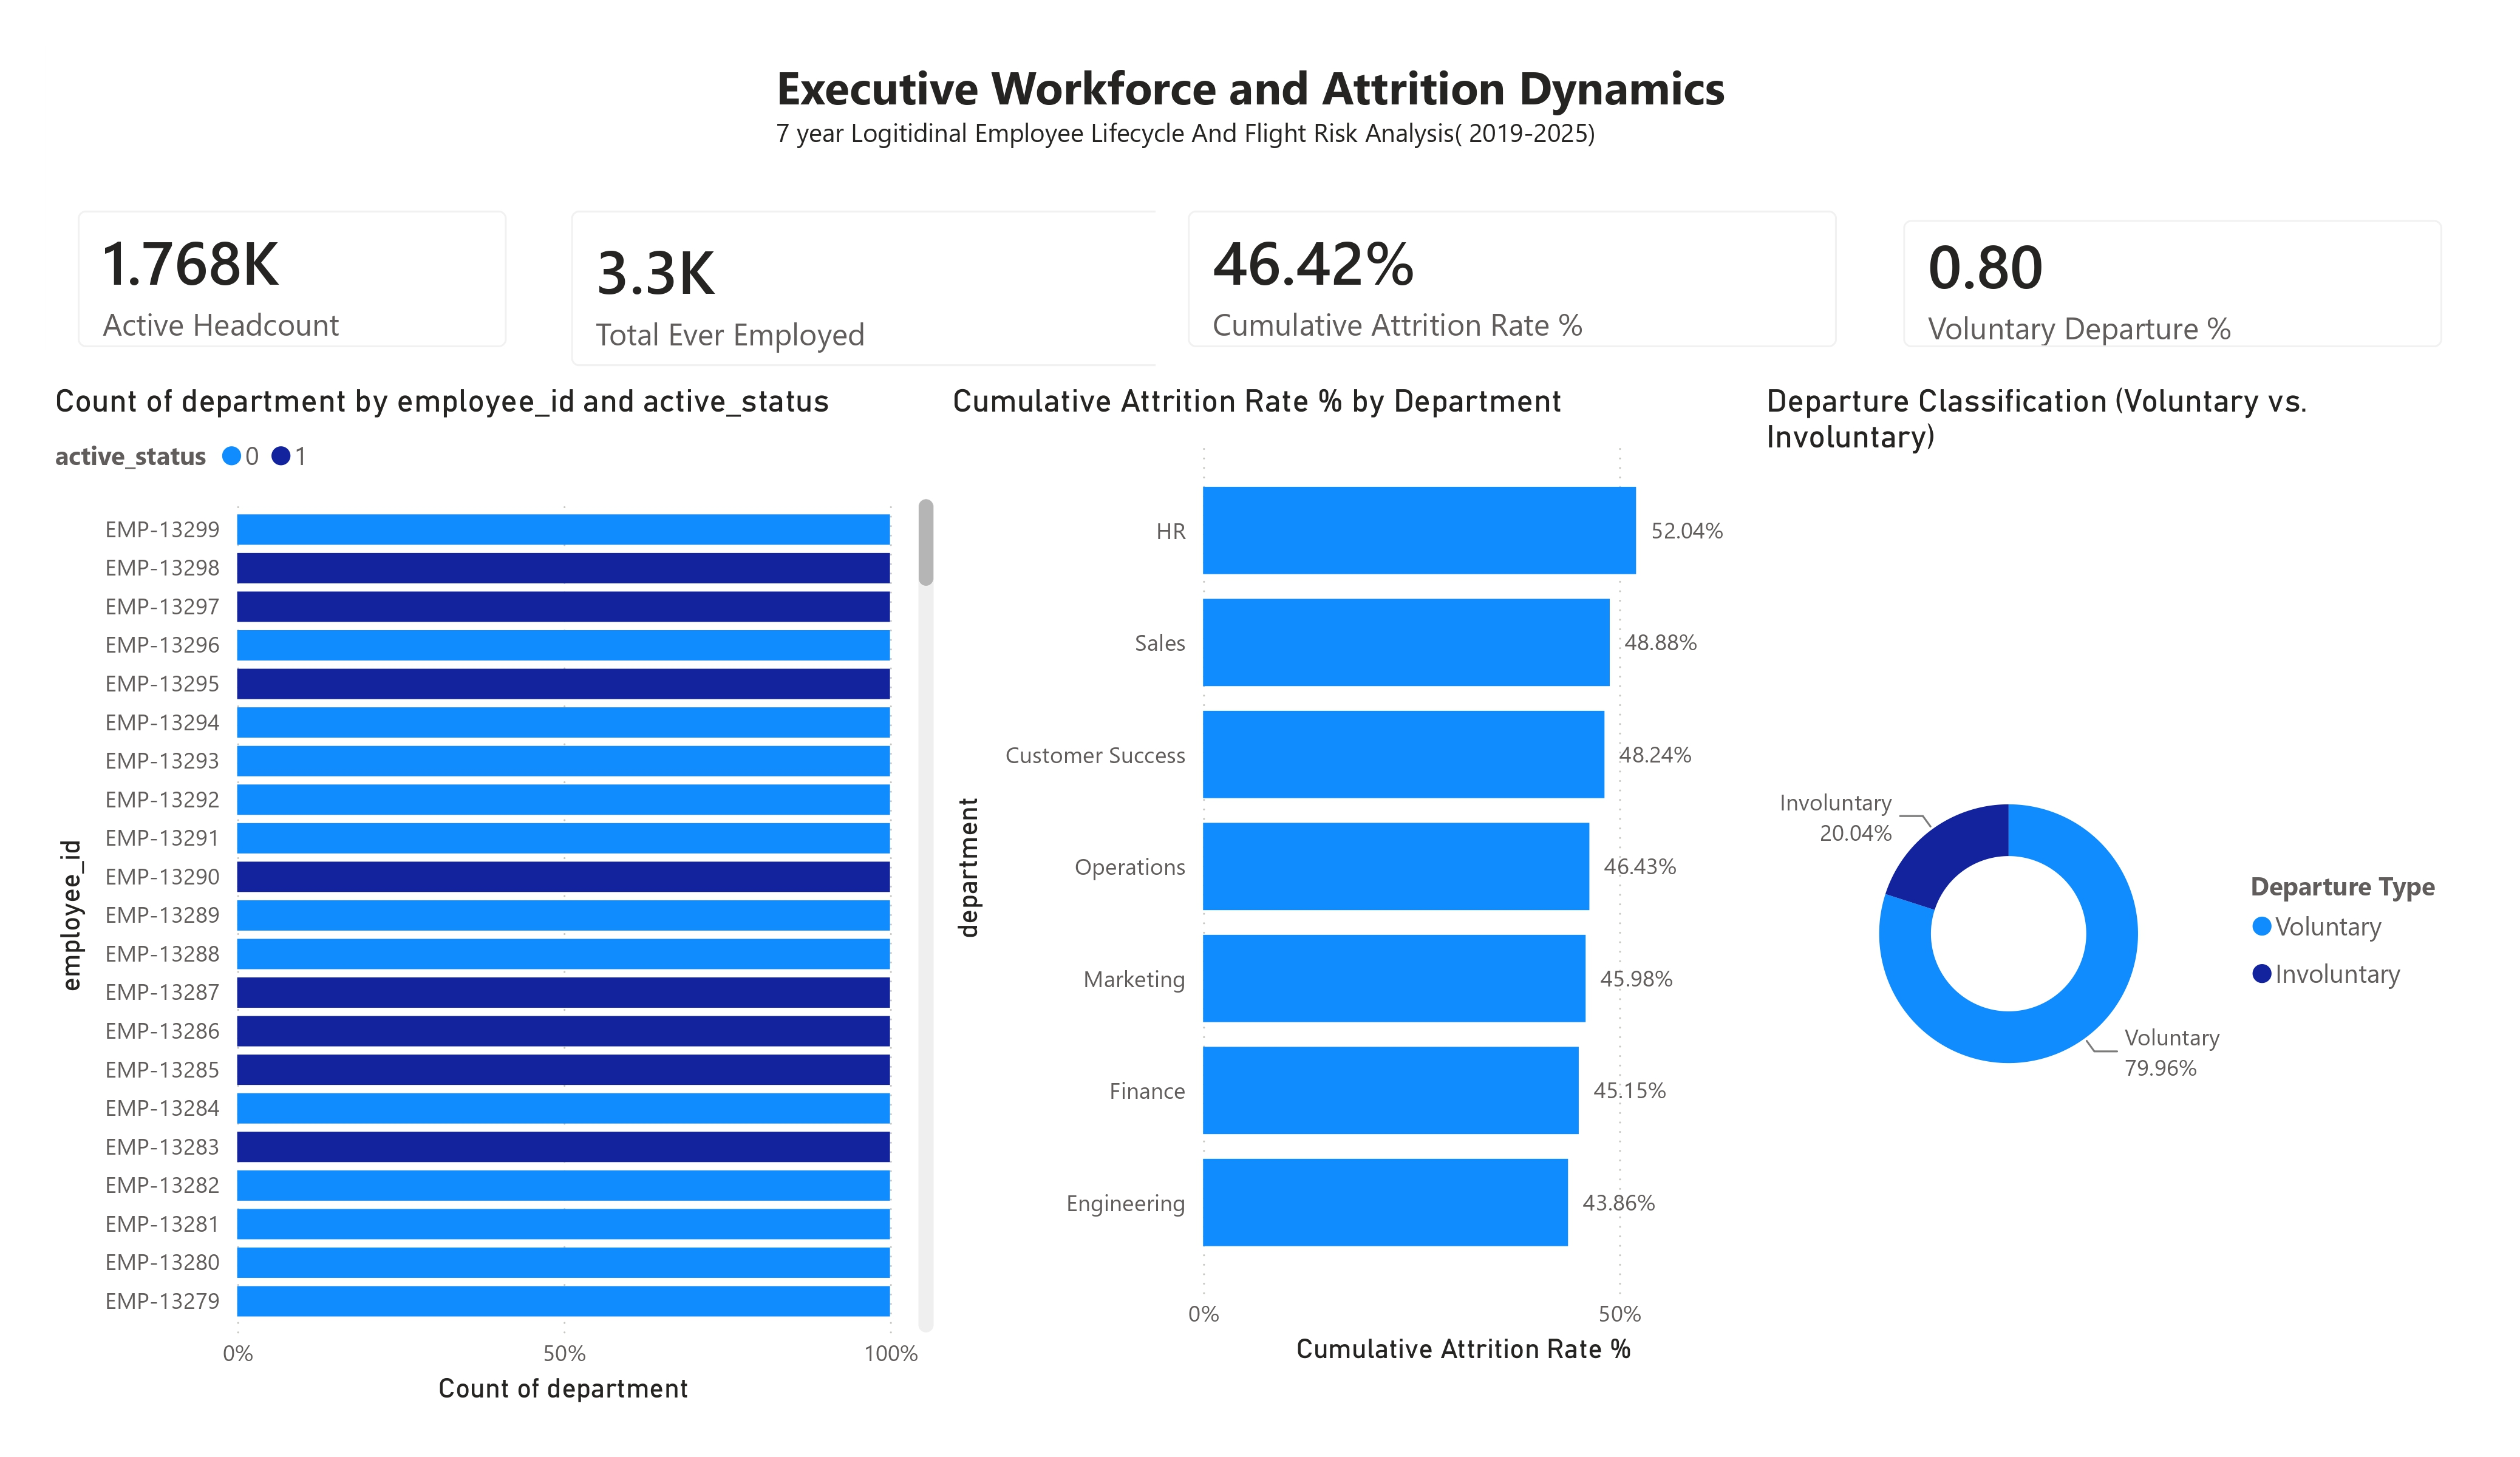

Layout of this report page (visuals, bound fields, positions):
{"tool":"powerbi","page":{"name":"Workforce & Attrition","canvas":[1280,720],"ordinal":0},"visuals":[{"type":"cardVisual","fields":{"Data":["employees_clean.Active Headcount"]},"box":[0,70,260,106.7],"z":0},{"type":"cardVisual","fields":{"Data":["employees_clean.Total Ever Employed"]},"box":[260,70,386.7,116.7],"z":1000},{"type":"cardVisual","fields":{"Data":["employees_clean.Cumulative Attrition Rate %"]},"box":[585,70,376.7,106.7],"z":2000},{"type":"clusteredBarChart","title":"Cumulative Attrition Rate % by Department","fields":{"Y":["employees_clean.Cumulative Attrition Rate %"],"Category":["employees_clean.department"]},"box":[473.3,176.7,428.3,523.3],"z":3000},{"type":"donutChart","title":"Departure Classification (Voluntary vs. Involuntary)","fields":{"Y":["employees_clean.Departed Headcount"],"Category":["employees_clean.Departure Type"]},"box":[901.7,176.7,378.3,543.3],"z":4000},{"type":"textbox","box":[380,0,898.3,70],"z":5000},{"type":"hundredPercentStackedBarChart","fields":{"Y":["CountNonNull(employees_clean.department)"],"Category":["employees_clean.employee_id"],"Series":["employees_clean.active_status"]},"box":[0,176.7,473.3,543.3],"z":6000},{"type":"cardVisual","fields":{"Data":["employees_clean.Voluntary Departure %"]},"box":[961.7,75,318.3,101.7],"z":7000}]}

Visuals, with their boxes on the page's 1280x720 design canvas (x1, y1, x2, y2). These are canvas units, not pixel positions in the 2520x1457 screenshot, which may show the page scaled, cropped or inside an application window:
cardVisual - employees_clean.Active Headcount: <box>0,70,260,177</box>
cardVisual - employees_clean.Total Ever Employed: <box>260,70,647,187</box>
cardVisual - employees_clean.Cumulative Attrition Rate %: <box>585,70,962,177</box>
"Cumulative Attrition Rate % by Department" clusteredBarChart: <box>473,177,902,700</box>
"Departure Classification (Voluntary vs. Involuntary)" donutChart: <box>902,177,1280,720</box>
textbox: <box>380,0,1278,70</box>
hundredPercentStackedBarChart - CountNonNull(employees_clean.department) x employees_clean.employee_id: <box>0,177,473,720</box>
cardVisual - employees_clean.Voluntary Departure %: <box>962,75,1280,177</box>
